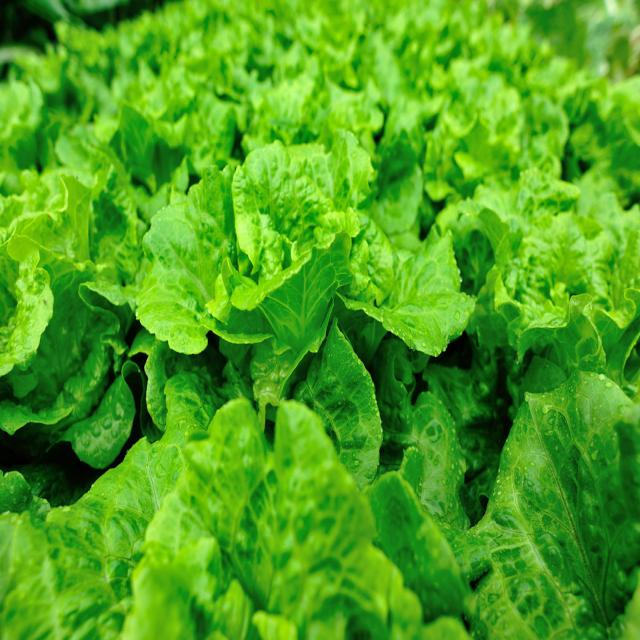Lettuce head: (100, 395, 452, 640), (146, 136, 453, 362), (0, 147, 138, 426), (472, 168, 640, 384)
